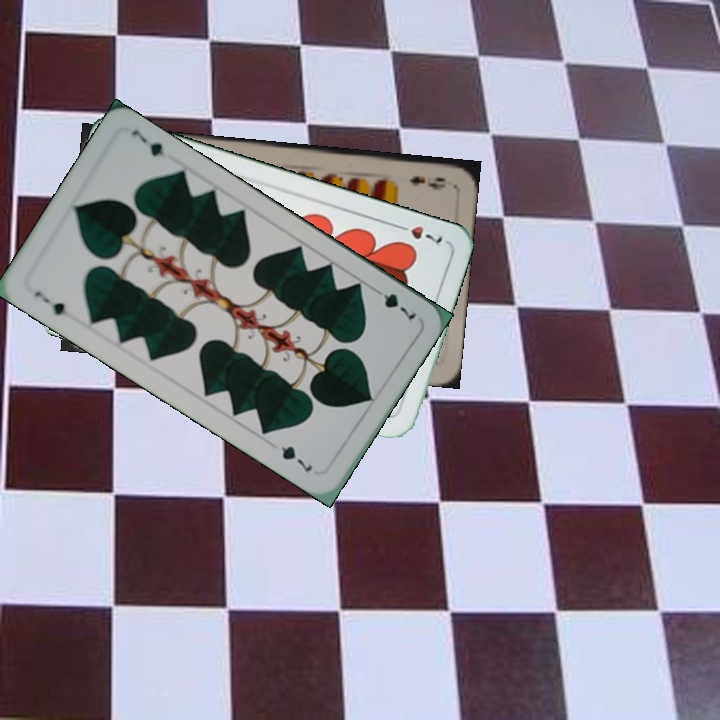E9: (405, 172, 449, 192)
G7: (368, 283, 419, 323), (30, 286, 69, 318)
H7: (390, 219, 446, 247)
